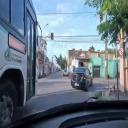NoEstacionar: (119, 47, 124, 56)
